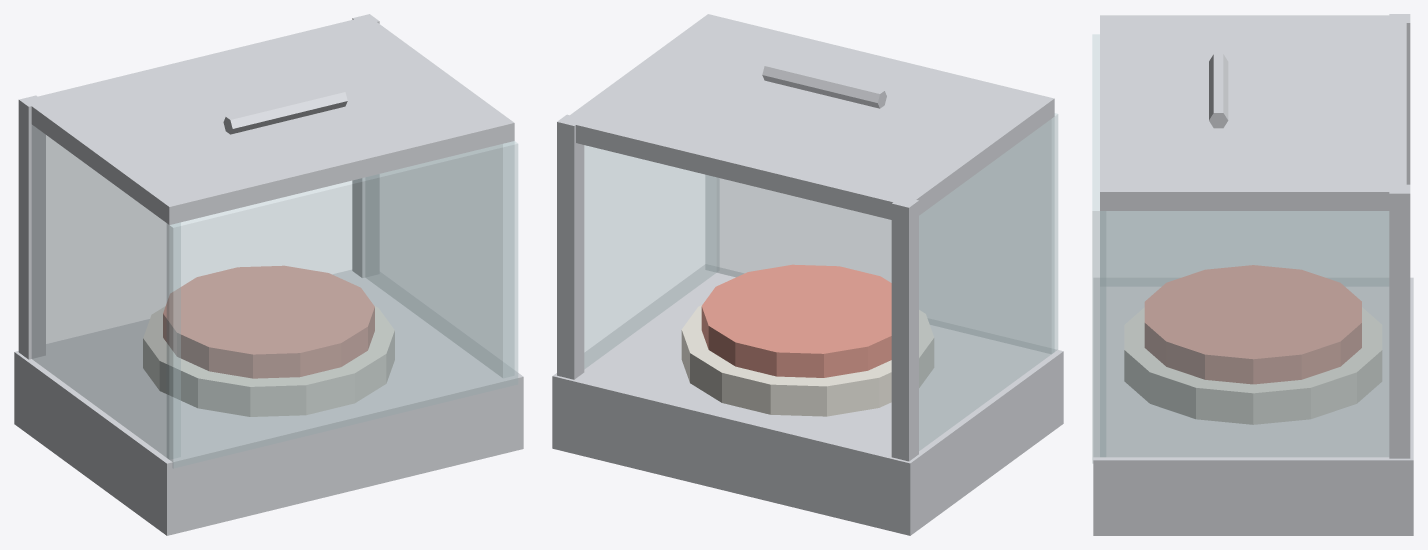
File: retro-diner-and-roadside-motel-pie-display-case-9ed23779__37333.glb
The picture shows the model from 3 angles, left to right: view 1: azimuth 30°, elevation 25°; view 2: azimuth 150°, elevation 25°; view 3: azimuth 270°, elevation 25°; orthographic projection. The views are drawn at different scales.
Parts seen in each view (by area): view 1: case-lid/glass, pie-display-case-chrome, case-lid/chrome, pie-display-case-coral, pie-display-case-cream; view 2: pie-display-case-chrome, case-lid/glass, case-lid/chrome, pie-display-case-coral, pie-display-case-cream; view 3: case-lid/glass, case-lid/chrome, pie-display-case-chrome, pie-display-case-coral, pie-display-case-cream.
Part boxes in pixels (x1,y1,x2,y2): case-lid/glass: [32, 125, 517, 468]; pie-display-case-chrome: [14, 14, 523, 535]; case-lid/chrome: [23, 16, 514, 224]; pie-display-case-coral: [163, 265, 374, 378]; pie-display-case-cream: [143, 306, 394, 416]; pie-display-case-chrome: [552, 114, 1063, 535]; case-lid/glass: [584, 113, 1057, 450]; case-lid/chrome: [562, 14, 1054, 219]; pie-display-case-coral: [701, 264, 891, 377]; pie-display-case-cream: [681, 305, 934, 416]; case-lid/glass: [1092, 34, 1389, 463]; case-lid/chrome: [1100, 15, 1406, 210]; pie-display-case-chrome: [1093, 14, 1413, 535]; pie-display-case-coral: [1144, 265, 1361, 384]; pie-display-case-cream: [1124, 307, 1382, 424].
Size of the model in its own units: 0.62 by 0.5721 by 0.4612.
